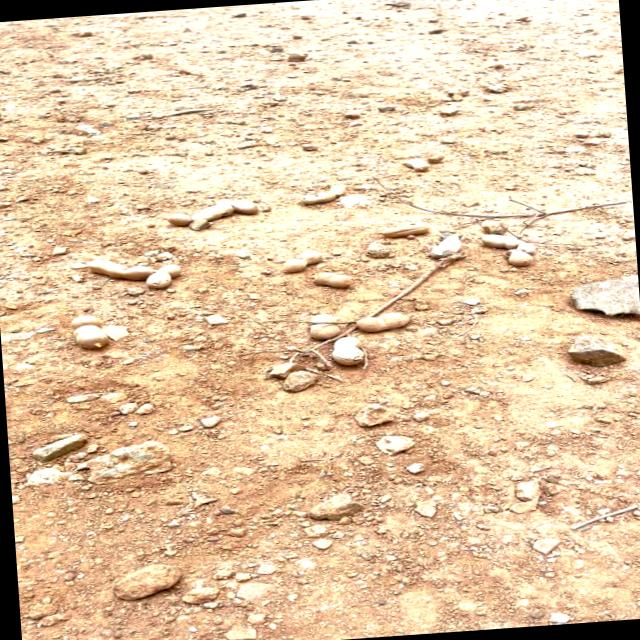tamarind: (82, 250, 192, 292), (162, 194, 266, 235), (478, 229, 540, 257), (70, 312, 106, 352), (356, 309, 414, 333), (302, 180, 343, 208), (282, 249, 324, 275), (330, 335, 364, 365), (377, 222, 438, 238), (314, 268, 358, 290), (498, 248, 538, 268), (304, 318, 342, 339)
